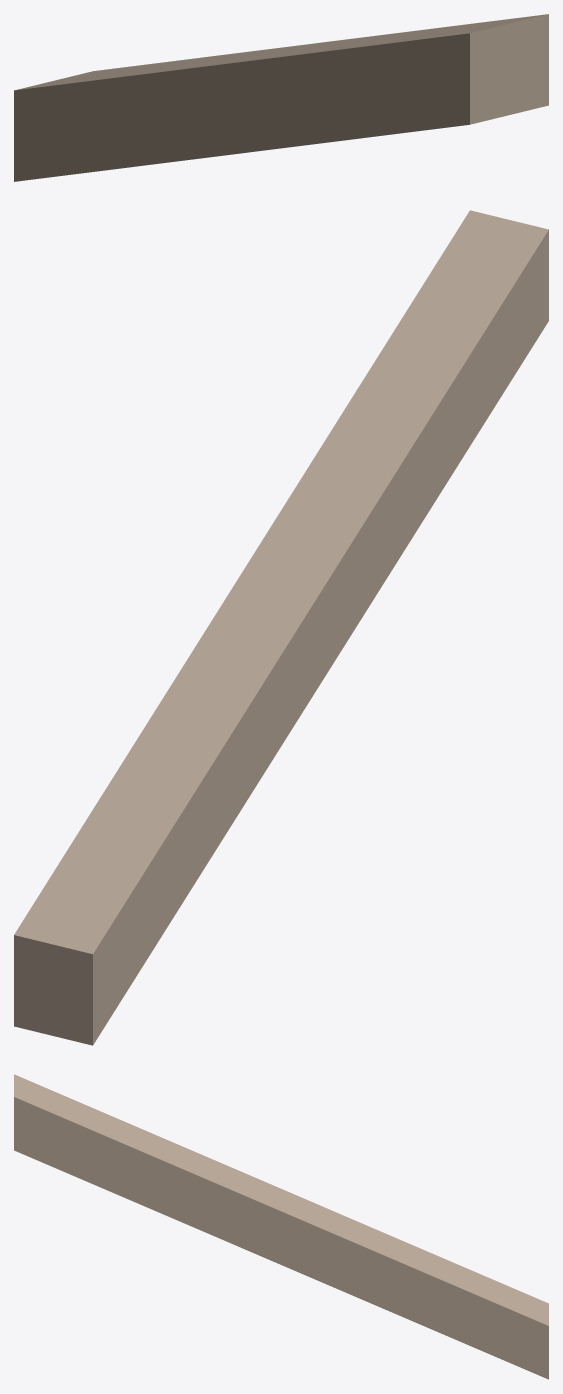
Rendered from Stucco_Prop_Support_Angled_Low.glb.
3 renders of one model, top to bottom at view 1: azimuth 30°, elevation 25°; view 2: azimuth 150°, elevation 25°; view 3: azimuth 270°, elevation 25°, orthographic. The views are drawn at different scales.
Visible parts, largest first — view 1: object1; view 2: object1; view 3: object1.
Part boxes in pixels (x1=…): object1: x1=14, y1=14, x2=548, y2=181; object1: x1=14, y1=210, x2=548, y2=1045; object1: x1=14, y1=1074, x2=548, y2=1379.
Bounding box in the file's own units: 0.1 × 0.5836 × 1.
